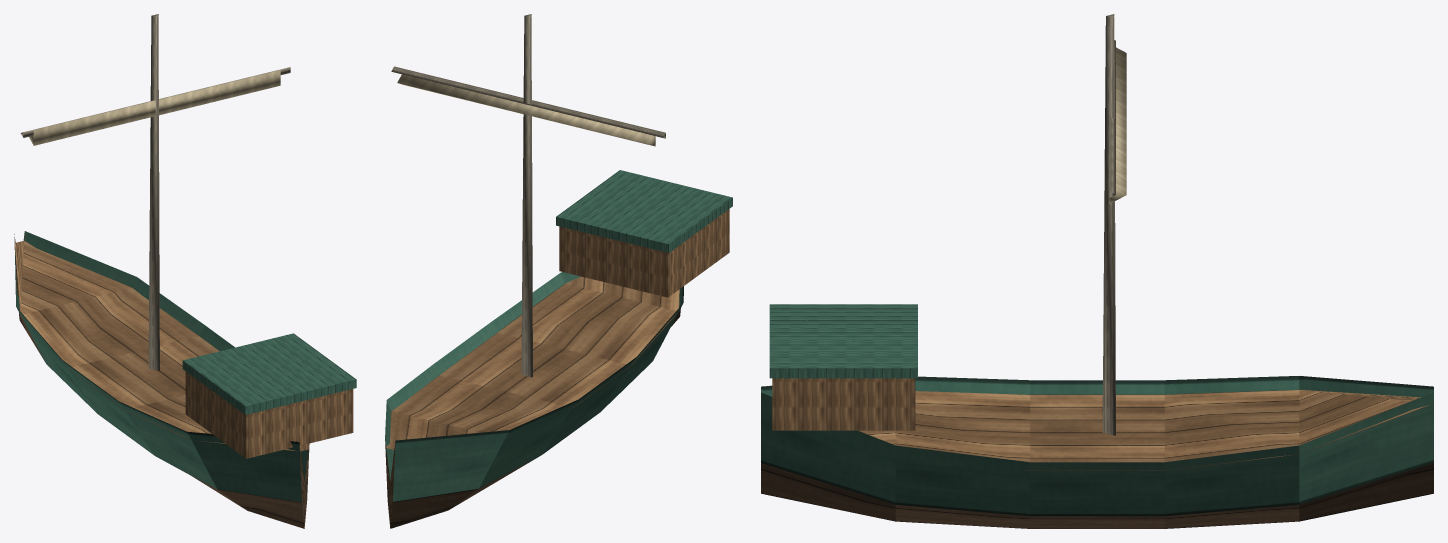
The model's file is Ship_Cog_1_LOD2.gltf.
3 views of the same model, side by side, from view 1: azimuth 30°, elevation 25°; view 2: azimuth 150°, elevation 25°; view 3: azimuth 270°, elevation 25° (orthographic). The views are drawn at different scales.
Parts seen in each view (by area): view 1: Ship_Cog_1_LOD2; view 2: Ship_Cog_1_LOD2; view 3: Ship_Cog_1_LOD2.
Boxes of the visible parts, x1,y1,x2,y2 form: Ship_Cog_1_LOD2: [14, 14, 356, 528]; Ship_Cog_1_LOD2: [385, 14, 732, 528]; Ship_Cog_1_LOD2: [761, 14, 1433, 528].
Size of the model in its own units: 13 by 20.19 by 24.
5 materials, 5 textured.
